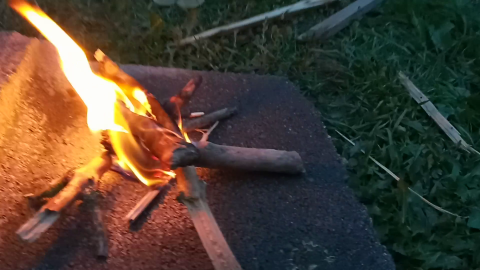fire: (12, 4, 207, 189)
